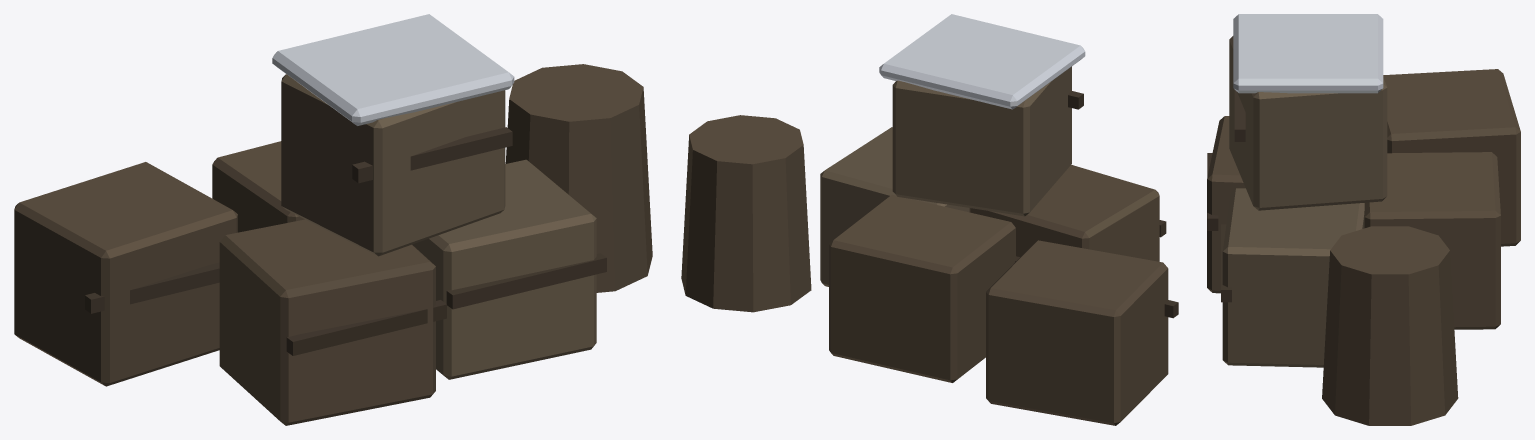
File: crate_pile.glb
3 views of the same model, side by side, from view 1: azimuth 30°, elevation 25°; view 2: azimuth 150°, elevation 25°; view 3: azimuth 270°, elevation 25° (orthographic). The views are drawn at different scales.
Visible parts, largest first — view 1: crate_pile; view 2: crate_pile; view 3: crate_pile.
Part boxes in pixels (x1,y1,x2,y2): crate_pile: [14, 14, 652, 425]; crate_pile: [681, 14, 1178, 425]; crate_pile: [1207, 14, 1520, 425].
Size of the model in its own units: 2.09 by 1.03 by 1.15.
